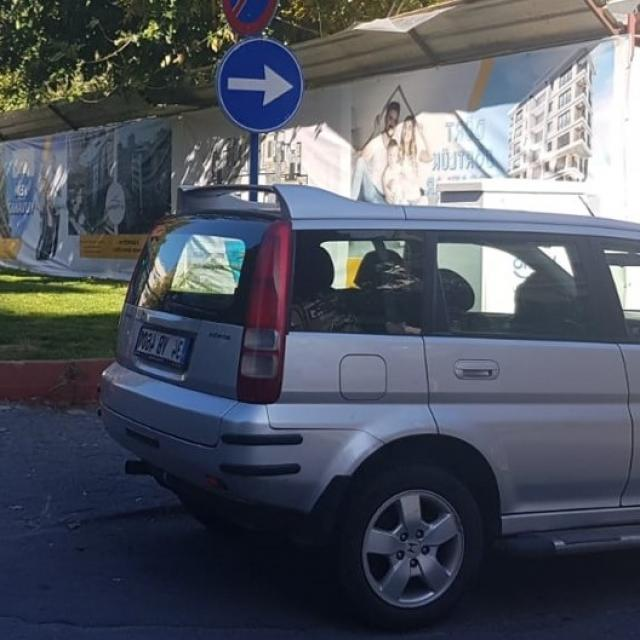Turn Right: (221, 34, 308, 135)
